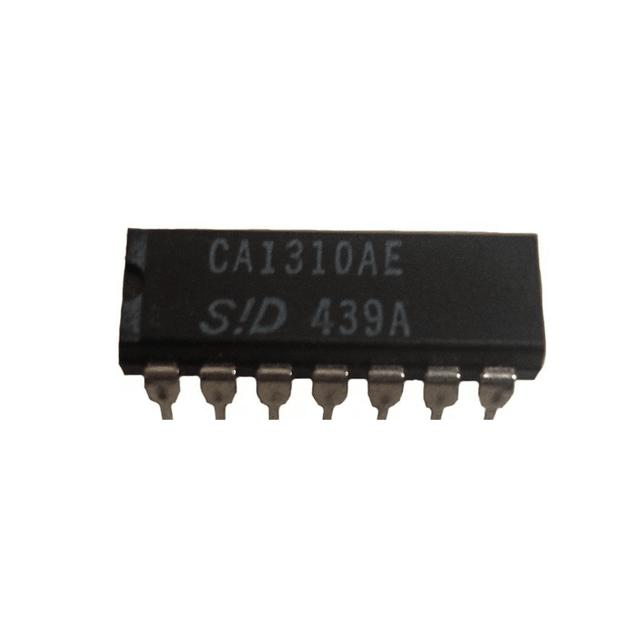IC: (116, 229, 552, 422)
